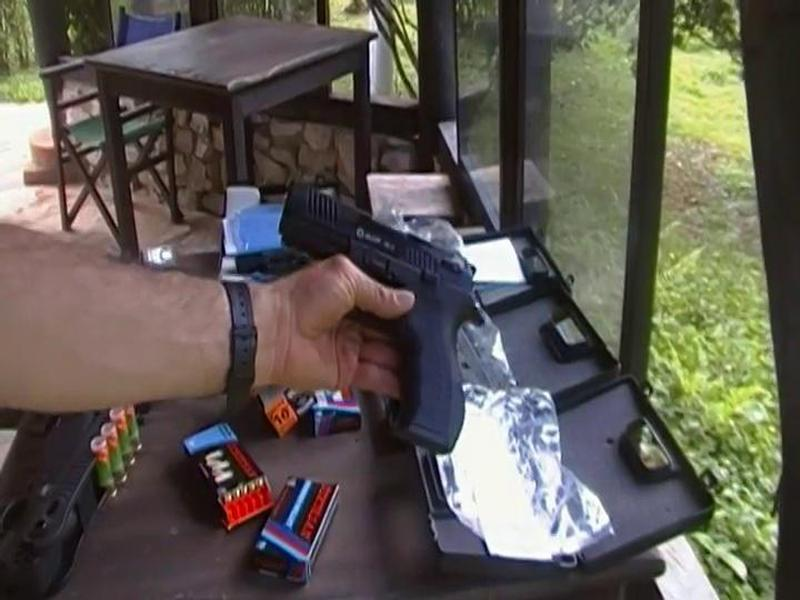Pistola: (250, 176, 497, 478)
